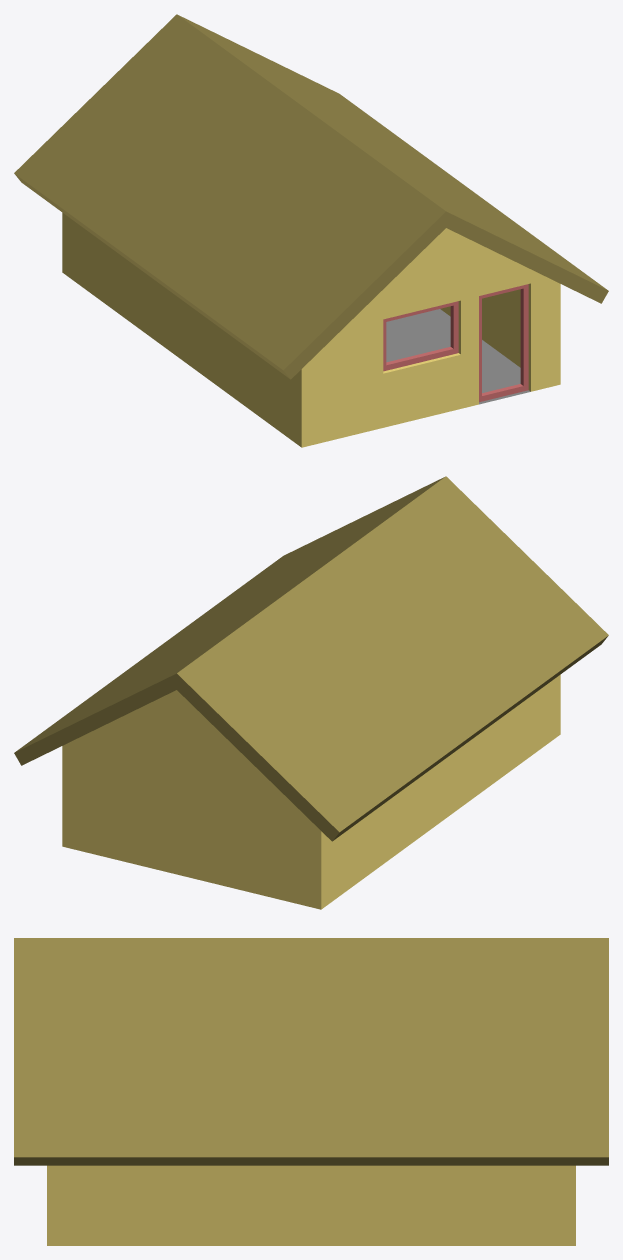
Rendered from result.glb.
3 views of the same model, one above another, from view 1: azimuth 30°, elevation 25°; view 2: azimuth 150°, elevation 25°; view 3: azimuth 270°, elevation 25° (orthographic). The views are drawn at different scales.
Parts seen in each view (by area): view 1: 806a2410-e719-4d6c-a735-b505edf8084f__undefined (×2), 81472d86-c912-43bc-9f06-1c490a1a19bf__undefined, de641708-2dd5-4960-b9c9-4b99e85c8906__Plane_9, 963965c7-05c3-42e4-a49c-d2770f95071a__Box, 615f4ac1-f93b-42aa-841d-80c55010782e__Box_3; view 2: 806a2410-e719-4d6c-a735-b505edf8084f__undefined (×2), 81472d86-c912-43bc-9f06-1c490a1a19bf__undefined; view 3: 806a2410-e719-4d6c-a735-b505edf8084f__undefined, 81472d86-c912-43bc-9f06-1c490a1a19bf__undefined.
Boxes of the visible parts, x1,y1,x2,y2 form: 806a2410-e719-4d6c-a735-b505edf8084f__undefined (×2): [14, 14, 608, 379]; 81472d86-c912-43bc-9f06-1c490a1a19bf__undefined: [62, 212, 560, 447]; de641708-2dd5-4960-b9c9-4b99e85c8906__Plane_9: [386, 309, 530, 404]; 963965c7-05c3-42e4-a49c-d2770f95071a__Box: [479, 284, 528, 402]; 615f4ac1-f93b-42aa-841d-80c55010782e__Box_3: [383, 301, 458, 371]; 806a2410-e719-4d6c-a735-b505edf8084f__undefined (×2): [14, 476, 608, 841]; 81472d86-c912-43bc-9f06-1c490a1a19bf__undefined: [62, 674, 560, 909]; 806a2410-e719-4d6c-a735-b505edf8084f__undefined: [14, 938, 608, 1165]; 81472d86-c912-43bc-9f06-1c490a1a19bf__undefined: [47, 1165, 575, 1245].
Bounding box in the file's own units: 629 × 398 × 901.
